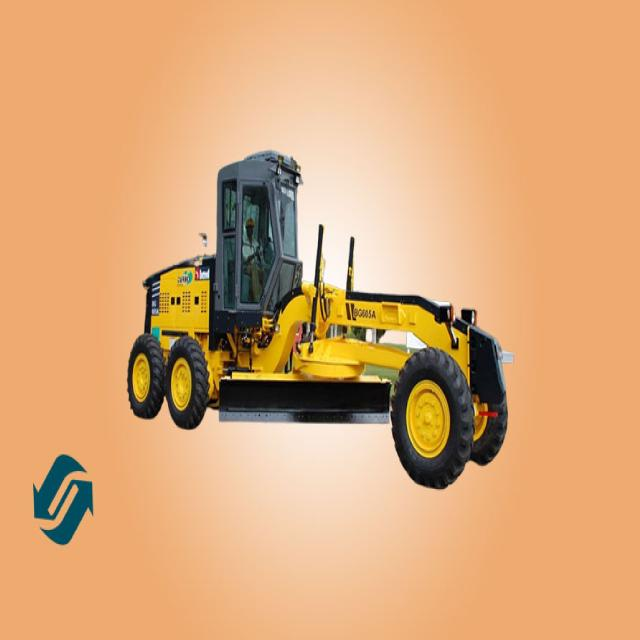buldozerpayloadergrader: (114, 149, 511, 479)
